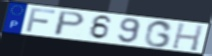6: (88, 15, 113, 41)
9: (117, 17, 143, 44)
F: (24, 7, 57, 33)
G: (143, 20, 175, 48)
H: (170, 22, 205, 53)
P: (52, 10, 87, 37)
